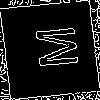M: (25, 24, 80, 71)
